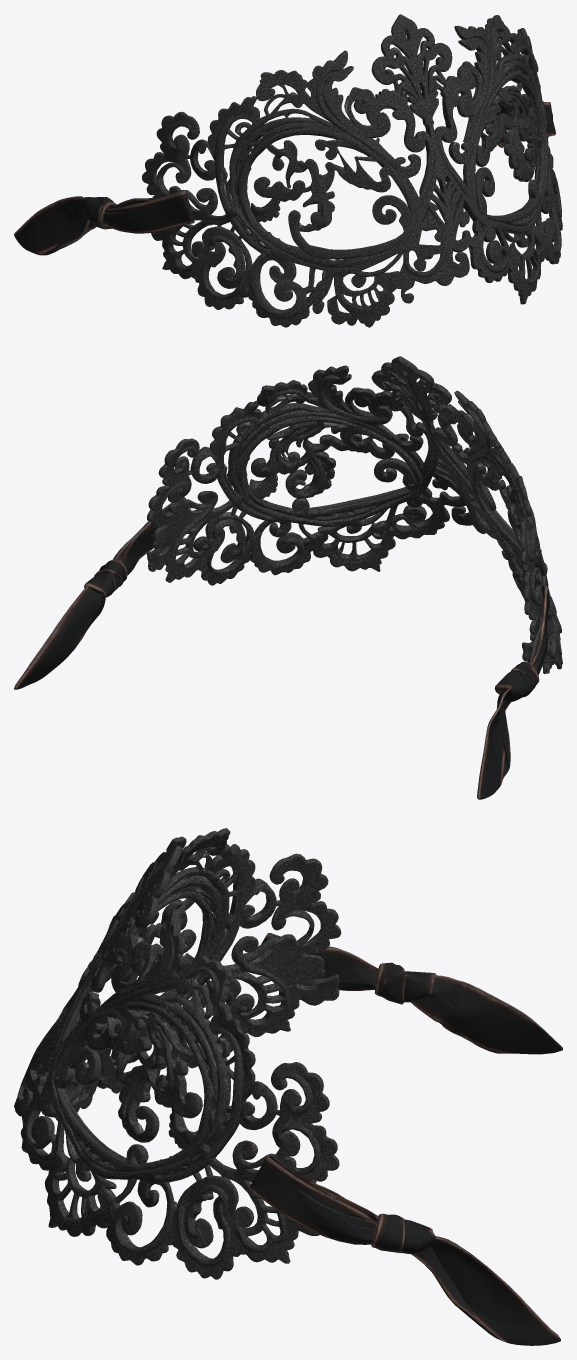
File: mask.glb
3 renders of one model, top to bottom at view 1: azimuth 30°, elevation 25°; view 2: azimuth 150°, elevation 25°; view 3: azimuth 270°, elevation 25°, orthographic. The views are drawn at different scales.
Size of the model in its own units: 1.9 by 1.1 by 1.53.
Materials: 1 (1 with a texture image).
